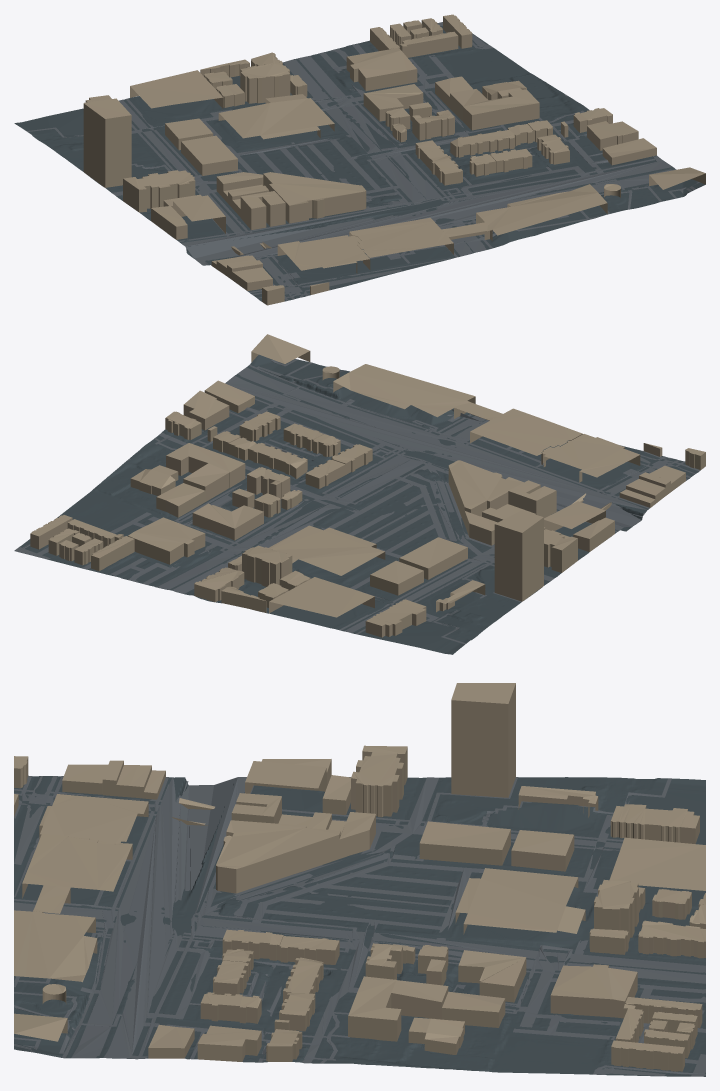
File: epsg26910-1432-10890.lod0.glb
3 views of the same model, one above another, from view 1: azimuth 30°, elevation 25°; view 2: azimuth 150°, elevation 25°; view 3: azimuth 270°, elevation 25° (orthographic). The views are drawn at different scales.
Parts seen in each view (by area): view 1: epsg26910-1432-10890-lod0; view 2: epsg26910-1432-10890-lod0; view 3: epsg26910-1432-10890-lod0.
Part boxes in pixels (bbox=[...]): epsg26910-1432-10890-lod0: bbox=[14, 14, 705, 305]; epsg26910-1432-10890-lod0: bbox=[14, 334, 705, 654]; epsg26910-1432-10890-lod0: bbox=[14, 683, 705, 1076].
Bounding box in the file's own units: 384 × 64.34 × 384.
